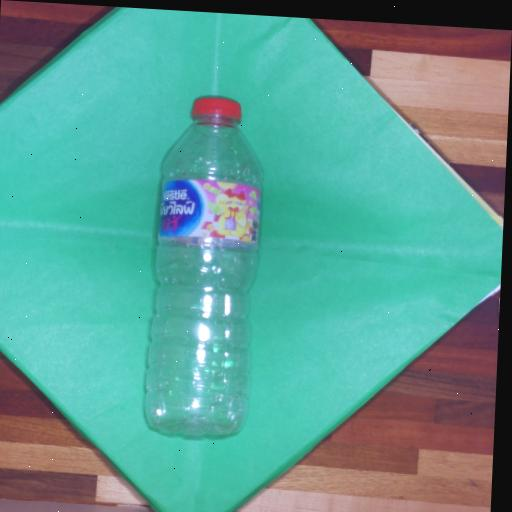bottle: (117, 72, 286, 464)
